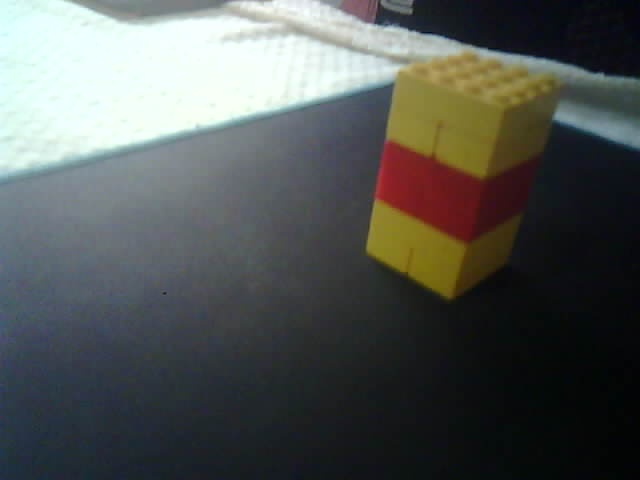lego: (364, 51, 561, 303)
